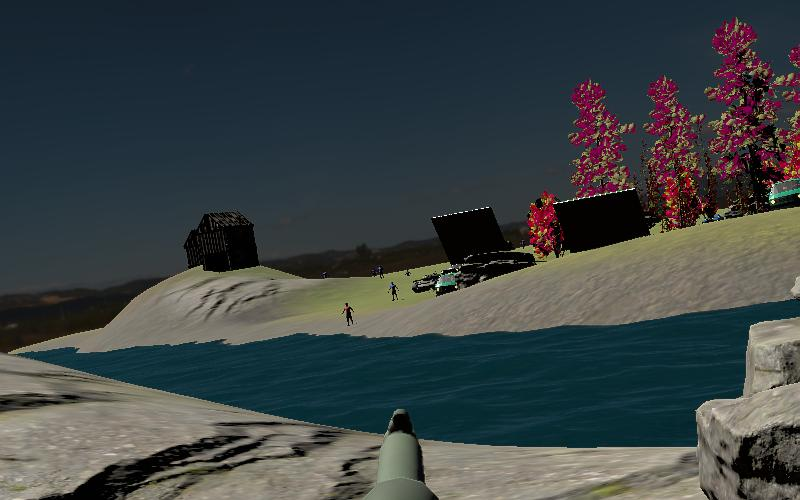car: (768, 177, 800, 213)
